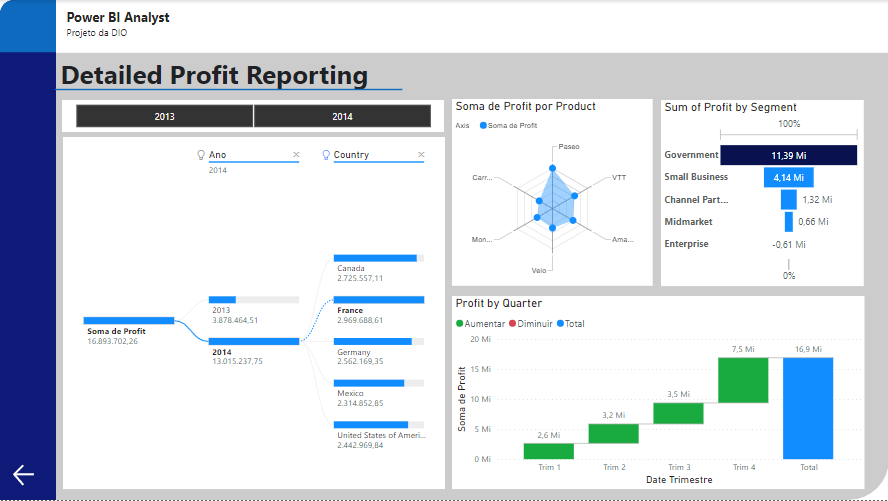

This screenshot's page, from the dashboard's own definition file:
{"tool":"powerbi","page":{"name":"Página 2","canvas":[1280,720],"ordinal":1},"visuals":[{"type":"shape","title":"fundo cinza","box":[0,0,1280.2,720],"z":0},{"type":"shape","box":[0,0,80.6,720.6],"z":0,"group":"g1"},{"type":"shape","box":[80.5,0,1199.5,76.3],"z":0,"group":"g2"},{"type":"shape","box":[0,0,80.4,720.4],"z":1000},{"type":"shape","box":[0,0,80.6,75.6],"z":1000,"group":"g1"},{"type":"textbox","box":[90.8,7.4,196.5,61],"z":1000,"group":"g2"},{"type":"group","id":"g1","title":"aba lateral","box":[0,0,80.4,720.4],"z":2000},{"type":"group","id":"g2","title":"titulo aba superior","box":[80.5,0,1199.5,76.3],"z":3000},{"type":"textbox","box":[82.4,58.9,465.2,85.9],"z":3500,"group":"g3"},{"type":"group","id":"g3","title":"Detailed Profit Reporting","box":[79.8,58.9,500,85.9],"z":4000},{"type":"shape","box":[79.8,115.5,500,27.4],"z":4000,"group":"g3"},{"type":"funnel","title":"Sum of Profit by Segment","fields":{"Category":["financials.Segment"],"Y":["Sum(financials.Profit)"]},"box":[951.4,144.6,292.5,267.8],"z":5000},{"type":"waterfallChart","title":"Profit by Quarter","fields":{"Category":["financials.Date.Variation.Hierarquia de datas.Trimestre"],"Y":["Sum(financials.Profit)"]},"box":[650.4,425.7,593.9,278.3],"z":6000},{"type":"slicer","fields":{"Values":["financials.Date.Variation.Hierarquia de datas.Ano"]},"box":[89.3,144,550.1,46.1],"z":7000},{"type":"actionButton","box":[14.4,663.8,44.6,40.3],"z":8000},{"type":"decompositionTreeVisual","fields":{"Analyze":["Sum(financials.Profit)"],"ExplainBy":["financials.Date.Variation.Hierarquia de datas.Ano","financials.Country"]},"box":[90.7,197.3,550.1,506.9],"z":9000},{"type":"RadarChart1446119667547","fields":{"Y":["Sum(financials.Profit)"],"Category":["financials.Product"]},"box":[650.9,142.6,289.4,269.3],"z":10000}]}

Visuals, with their boxes on the page's 1280x720 design canvas (x1, y1, x2, y2). These are canvas units, not pixel positions in the 888x501 screenshot, which may show the page scaled, cropped or inside an application window:
"fundo cinza" shape: Rect(0, 0, 1280, 720)
shape: Rect(0, 0, 81, 721)
shape: Rect(80, 0, 1280, 76)
shape: Rect(0, 0, 80, 720)
shape: Rect(0, 0, 81, 76)
textbox: Rect(91, 7, 287, 68)
"aba lateral" group: Rect(0, 0, 80, 720)
"titulo aba superior" group: Rect(80, 0, 1280, 76)
textbox: Rect(82, 59, 548, 145)
"Detailed Profit Reporting" group: Rect(80, 59, 580, 145)
shape: Rect(80, 116, 580, 143)
"Sum of Profit by Segment" funnel: Rect(951, 145, 1244, 412)
"Profit by Quarter" waterfallChart: Rect(650, 426, 1244, 704)
slicer - financials.Date.Variation.Hierarquia de datas.Ano: Rect(89, 144, 639, 190)
actionButton: Rect(14, 664, 59, 704)
decompositionTreeVisual - Sum(financials.Profit) x financials.Date.Variation.Hierarquia de datas.Ano: Rect(91, 197, 641, 704)
RadarChart1446119667547 - Sum(financials.Profit) x financials.Product: Rect(651, 143, 940, 412)
